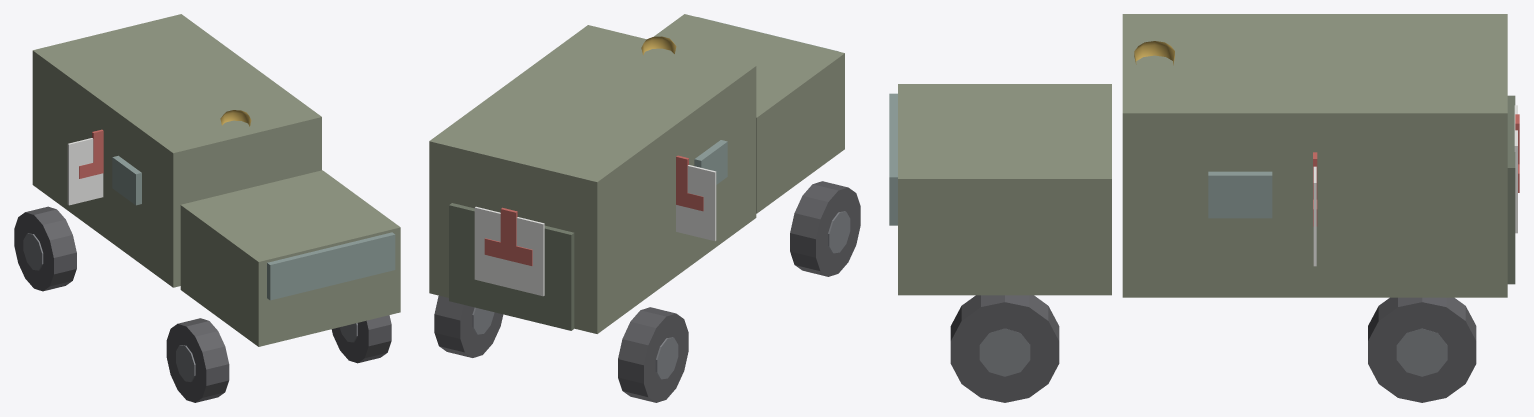
The model's file is field-ambulance.glb.
The picture shows the model from 3 angles, left to right: view 1: azimuth 30°, elevation 25°; view 2: azimuth 150°, elevation 25°; view 3: azimuth 270°, elevation 25°; orthographic projection. The views are drawn at different scales.
Visible parts, largest first — view 1: field-ambulance; view 2: field-ambulance; view 3: field-ambulance.
Boxes of the visible parts, x1,y1,x2,y2 form: field-ambulance: (14,14,400,402); field-ambulance: (429,14,860,402); field-ambulance: (889,14,1519,402).
Size of the model in its own units: 3.22 by 3.1 by 5.89.
